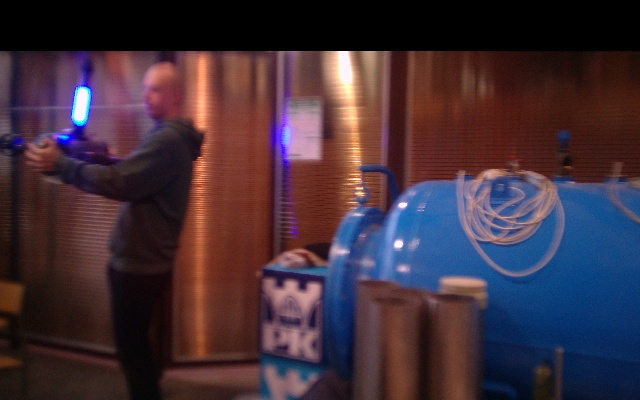blue: (73, 85, 91, 128)
